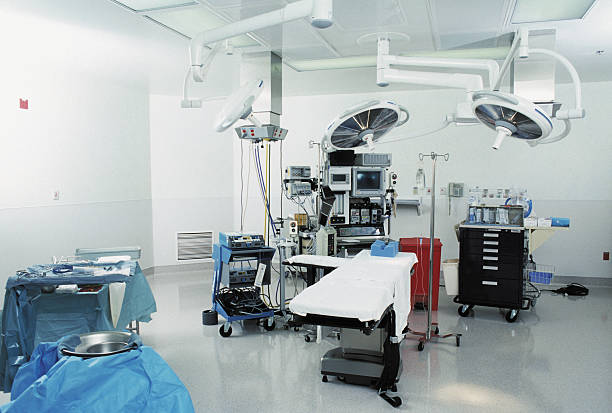bedside_monitor: (353, 169, 388, 196)
electrosurgical_unit: (218, 233, 264, 254), (223, 269, 258, 290)
handle: (481, 280, 497, 287), (483, 241, 499, 248), (484, 233, 498, 239), (483, 265, 496, 270)
iv_pole: (417, 149, 452, 327), (308, 133, 332, 198)
medical_drawer: (458, 223, 526, 308)
operating_bed: (284, 242, 420, 388)
surgical_instrument: (1, 242, 146, 291)
surgical_light: (467, 93, 553, 151), (319, 99, 411, 153), (212, 77, 268, 134)
waste_bin: (399, 234, 445, 314), (441, 258, 465, 297)
